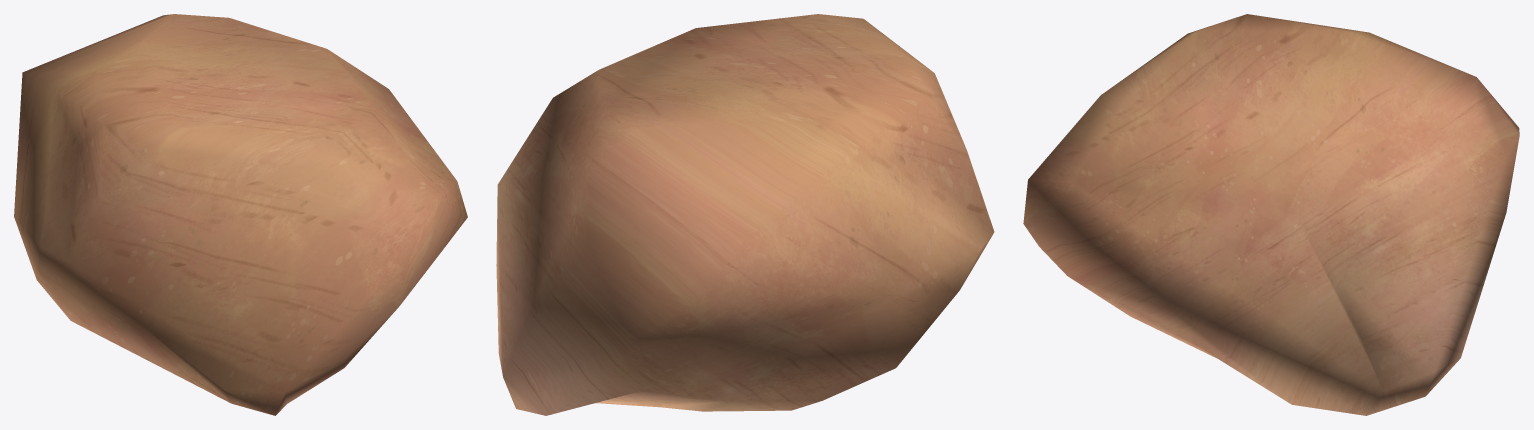
File: rock_1_018.fbx
3 views of the same model, side by side, from view 1: azimuth 30°, elevation 25°; view 2: azimuth 150°, elevation 25°; view 3: azimuth 270°, elevation 25° (orthographic). The views are drawn at different scales.
Parts seen in each view (by area): view 1: rock 1.018; view 2: rock 1.018; view 3: rock 1.018.
Part boxes in pixels (bbox=[...]): rock 1.018: bbox=[14, 14, 467, 415]; rock 1.018: bbox=[496, 14, 994, 415]; rock 1.018: bbox=[1023, 14, 1519, 415].
Bounding box in the file's own units: 518 × 402 × 609.
